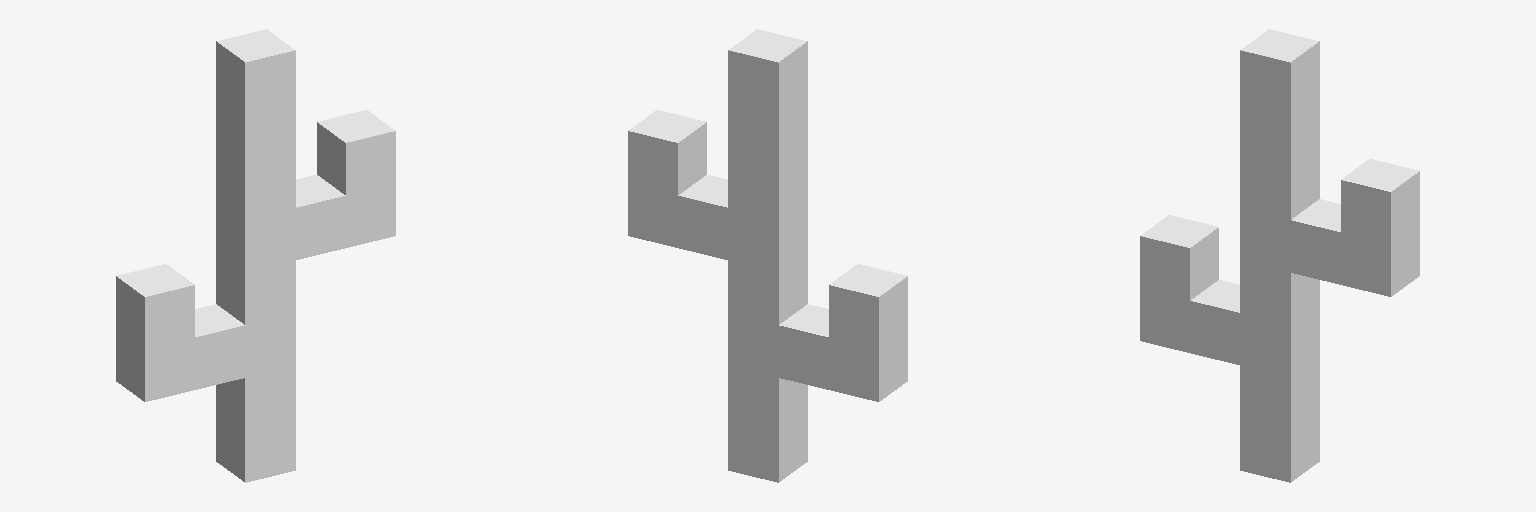
Rendered from Cactus.obj.
3 renders of one model, left to right at view 1: azimuth 30°, elevation 25°; view 2: azimuth 150°, elevation 25°; view 3: azimuth 330°, elevation 25°, orthographic.
Visible parts, largest first — view 1: object 1; view 2: object 1; view 3: object 1.
Boxes of the visible parts, <box> form: object 1: <box>116,29,395,482</box>; object 1: <box>628,29,907,482</box>; object 1: <box>1140,29,1419,482</box>.
Size of the model in its own units: 0.5 by 0.8 by 0.1.